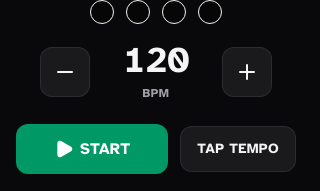
Test: MetronomeWidget › increases and decreases BPM by 5 when buttons are clicked
Click the button named "Increase BPM by 5".
click(247, 72)  # box [222,47,272,97]
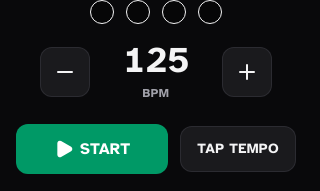
Now the text "125" is shown, box [123,38,189,82]
Click the button named "Decrease BPM by 5".
click(65, 72)  # box [40,47,90,97]
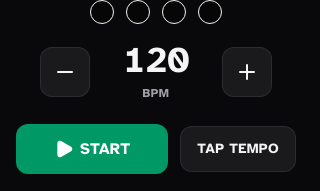
Click the button named "Decrease BPM by 5".
click(65, 72)  # box [40,47,90,97]
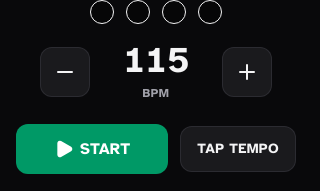
Now the text "115" is shown, box [123,38,189,82]
